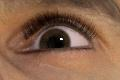eye: (39, 28, 70, 49)
